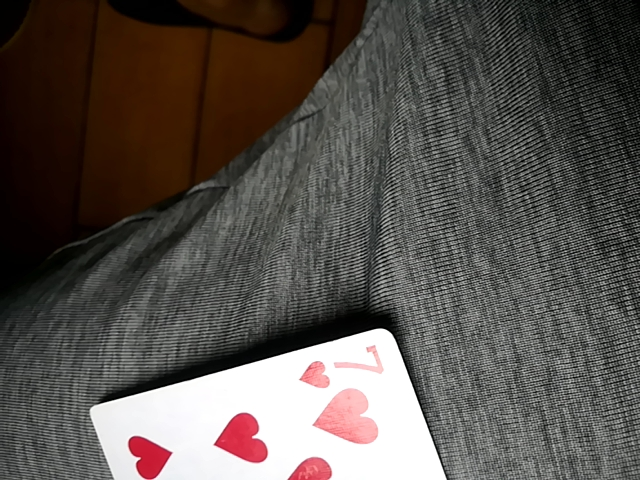hx 7: (81, 326, 461, 478)
